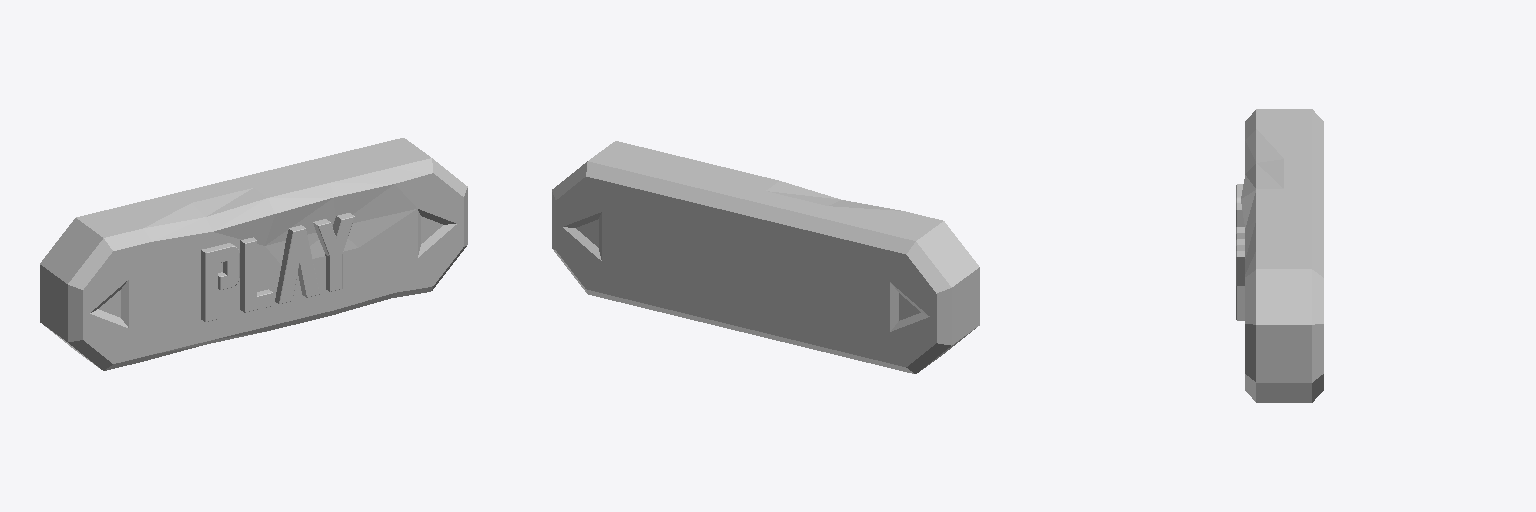
The model's file is Play.obj.
3 views of the same model, side by side, from view 1: azimuth 30°, elevation 25°; view 2: azimuth 150°, elevation 25°; view 3: azimuth 270°, elevation 25° (orthographic).
Parts seen in each view (by area): view 1: Tutorial.003_Cube.017; view 2: Tutorial.003_Cube.017; view 3: Tutorial.003_Cube.017.
Boxes of the visible parts, x1,y1,x2,y2 form: Tutorial.003_Cube.017: [40, 138, 467, 370]; Tutorial.003_Cube.017: [552, 141, 979, 373]; Tutorial.003_Cube.017: [1236, 109, 1323, 402].
Bounding box in the file's own units: 3.57 × 1.14 × 0.6744.